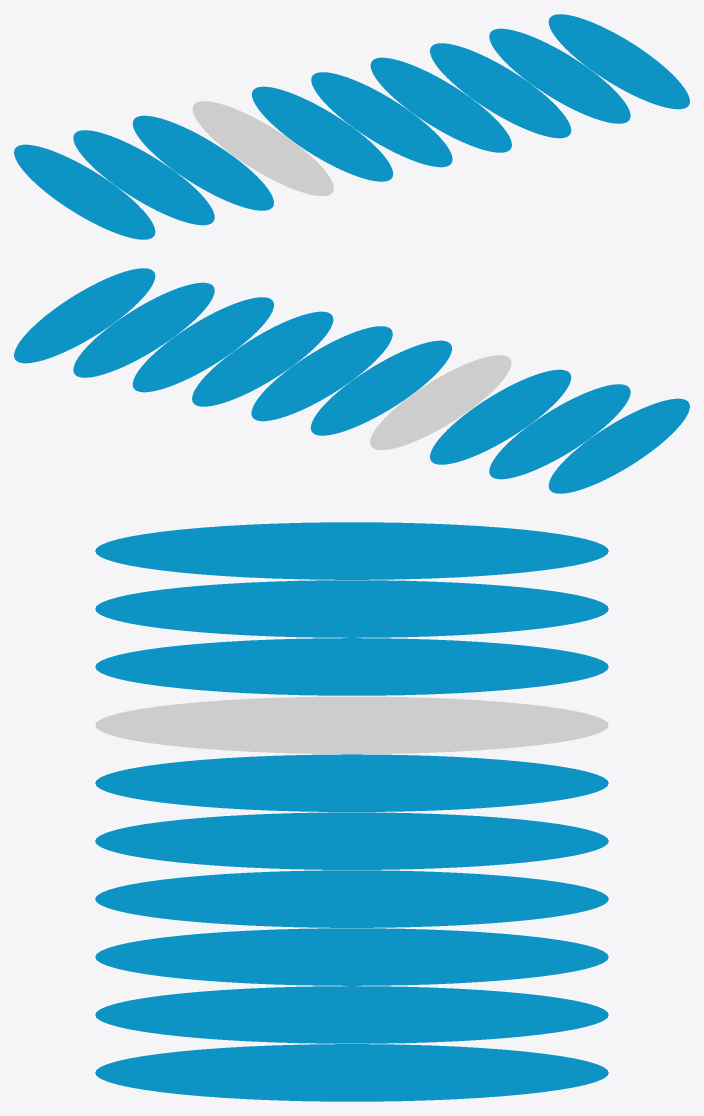
The model's file is balls_nets.fbx.
3 views of the same model, one above another, from view 1: azimuth 30°, elevation 25°; view 2: azimuth 150°, elevation 25°; view 3: azimuth 270°, elevation 25° (orthographic). The views are drawn at different scales.
Visible parts, largest first — view 1: Circle.005, Circle.010, Circle.002, Circle.004, Circle.009, Circle, Circle.006, Circle.003, Circle.008, Circle.007; view 2: Circle.005, Circle.010, Circle.002, Circle.004, Circle.009, Circle, Circle.006, Circle.003, Circle.008, Circle.007; view 3: Circle.005, Circle.010, Circle.003, Circle.004, Circle.008, Circle.009, Circle.007, Circle.006, Circle.002, Circle.
Boxes of the visible parts, x1,y1,x2,y2 form: Circle.005: (14,144,155,239); Circle.010: (548,14,689,109); Circle.002: (252,86,393,181); Circle.004: (73,130,214,225); Circle.009: (489,28,630,123); Circle: (192,101,333,195); Circle.006: (311,72,452,167); Circle.003: (132,115,273,210); Circle.008: (430,43,571,138); Circle.007: (370,57,511,152); Circle.005: (548,398,689,493); Circle.010: (14,268,155,363); Circle.002: (310,340,451,435); Circle.004: (489,384,630,479); Circle.009: (73,282,214,377); Circle: (370,355,511,449); Circle.006: (251,326,392,421); Circle.003: (430,369,571,464); Circle.008: (132,297,273,392); Circle.007: (192,311,333,406); Circle.005: (95,522,608,579); Circle.010: (95,1044,608,1101); Circle.003: (95,638,608,695); Circle.004: (95,580,608,637); Circle.008: (95,928,608,985); Circle.009: (95,986,608,1043); Circle.007: (95,870,608,927); Circle.006: (95,812,608,869); Circle.002: (95,754,608,811); Circle: (95,696,608,754).
Bounding box in the file's own units: 286 × 1.75e-05 × 107.
